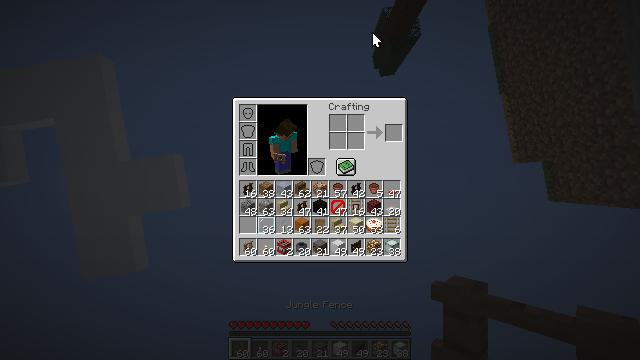cursor: (372, 32, 382, 48)
